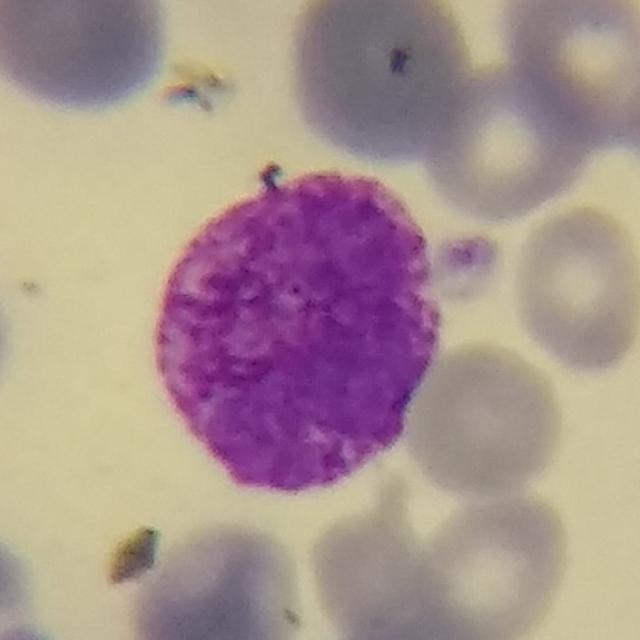baso: (156, 168, 444, 495)
